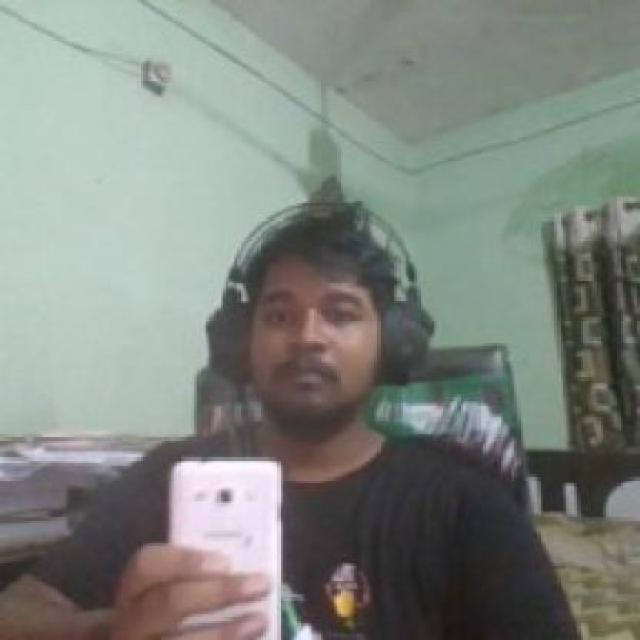Phone: (167, 459, 286, 637)
